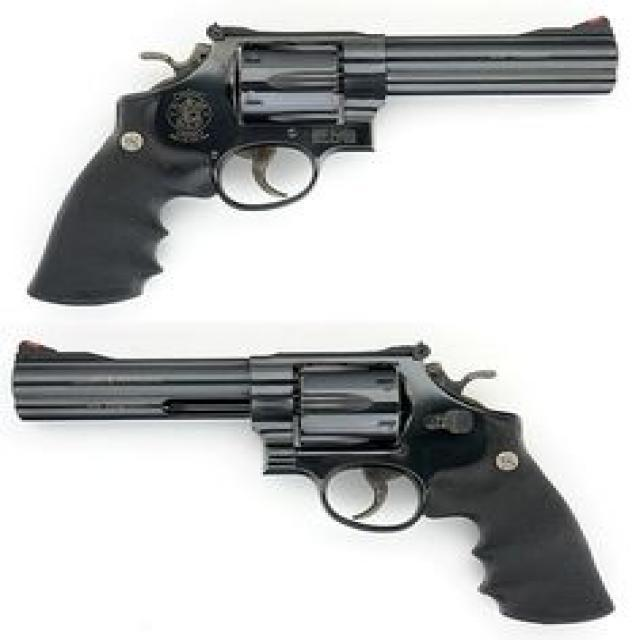revolver: (17, 2, 638, 620)
